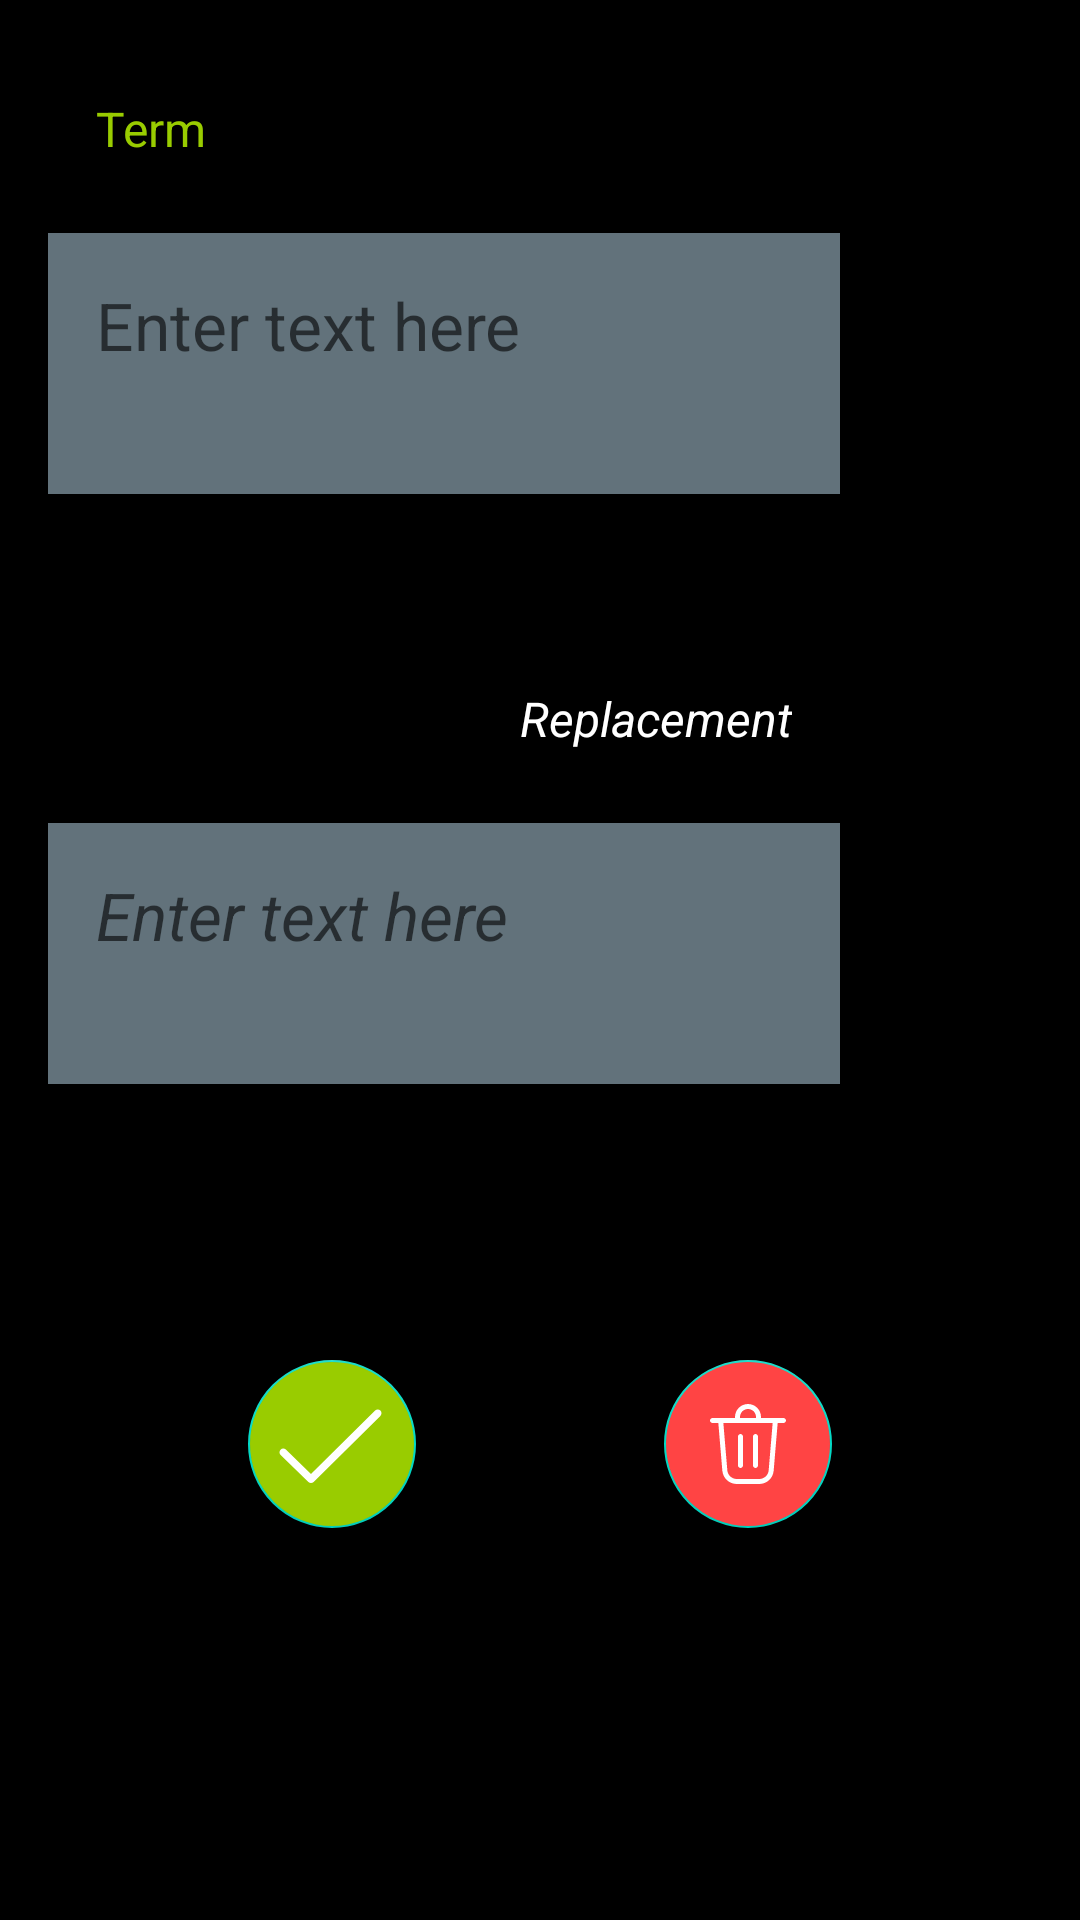

Named icons in this screenshot (1080 x 1920) and their centers, point (x, y):
Delete: point (748, 1444)
Save: point (332, 1444)
